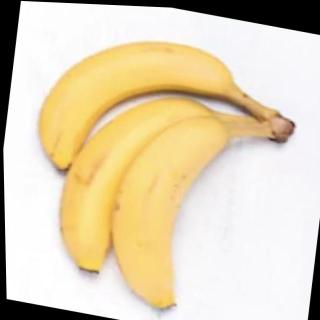banana: (25, 16, 241, 200), (43, 74, 223, 294), (93, 97, 236, 320)
